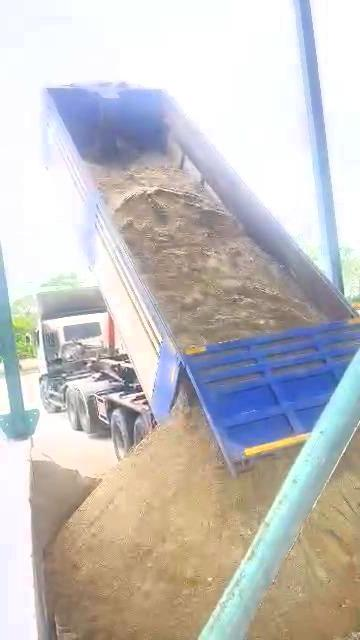sand: (48, 394, 295, 639), (92, 165, 323, 347), (251, 434, 360, 639), (31, 449, 97, 550)
